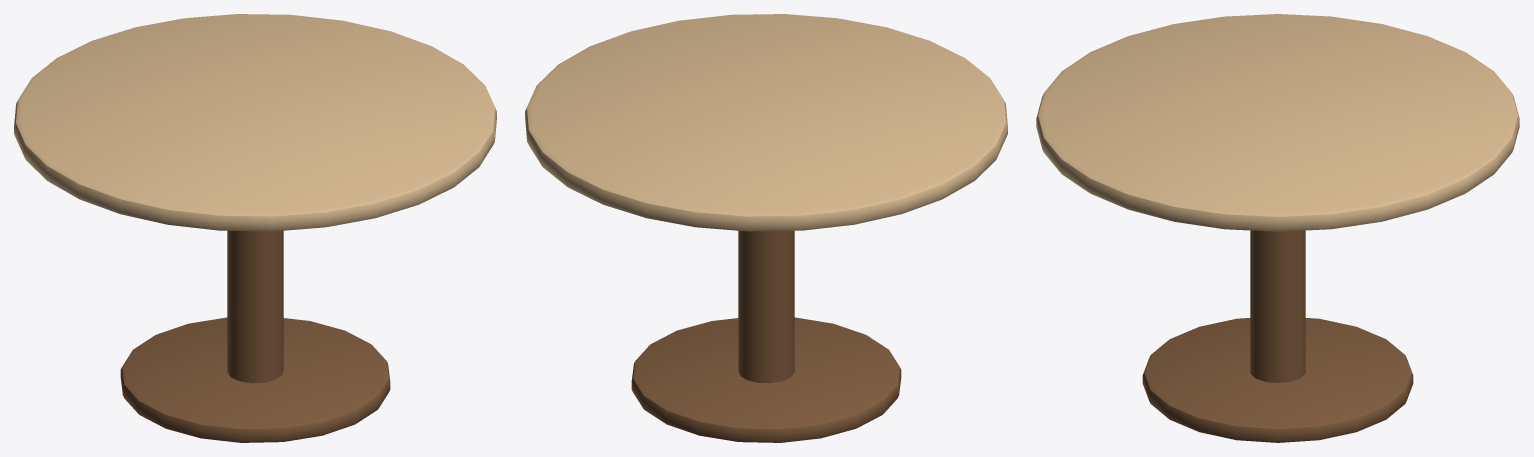
Rendered from round_table.glb.
The picture shows the model from 3 angles, left to right: view 1: azimuth 30°, elevation 25°; view 2: azimuth 150°, elevation 25°; view 3: azimuth 270°, elevation 25°; orthographic projection.
Visible parts, largest first — view 1: FURN-round_table; view 2: FURN-round_table; view 3: FURN-round_table.
Boxes of the visible parts, x1=… form: FURN-round_table: x1=14, y1=14, x2=496, y2=442; FURN-round_table: x1=525, y1=14, x2=1007, y2=442; FURN-round_table: x1=1036, y1=14, x2=1519, y2=442.
Bounding box in the file's own units: 1.2 × 0.75 × 1.2.
